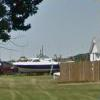Boat: (6, 48, 67, 84)
